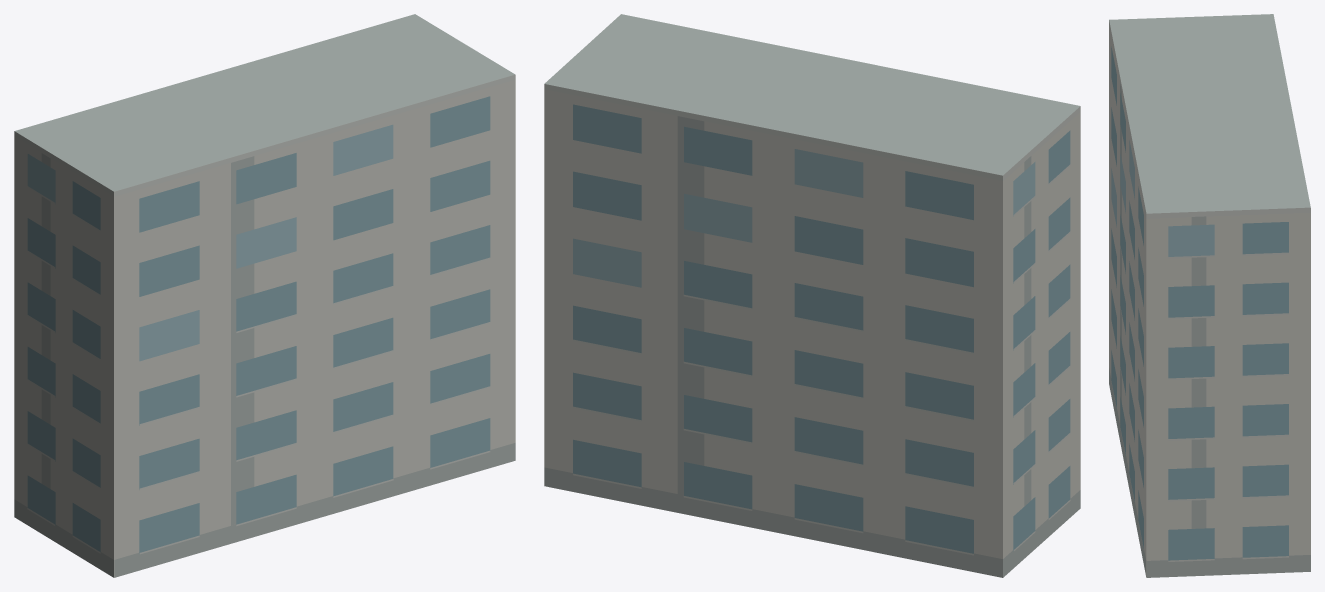
The model's file is survey-upis-32639199.glb.
The picture shows the model from 3 angles, left to right: view 1: azimuth 30°, elevation 25°; view 2: azimuth 150°, elevation 25°; view 3: azimuth 270°, elevation 25°; orthographic projection. The views are drawn at different scales.
Visible parts, largest first — view 1: survey-upis-32639199.tmp; view 2: survey-upis-32639199.tmp; view 3: survey-upis-32639199.tmp.
Boxes of the visible parts, bbox=[...] form: survey-upis-32639199.tmp: bbox=[14, 14, 515, 577]; survey-upis-32639199.tmp: bbox=[544, 14, 1080, 577]; survey-upis-32639199.tmp: bbox=[1109, 14, 1310, 577].
Size of the model in its own units: 21.11 by 17.95 by 9.02.
